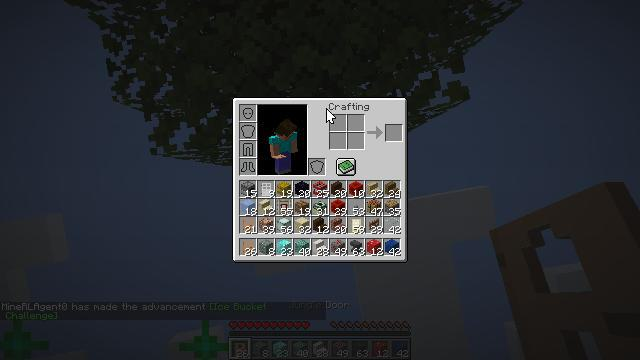cursor: (326, 108, 336, 124)
